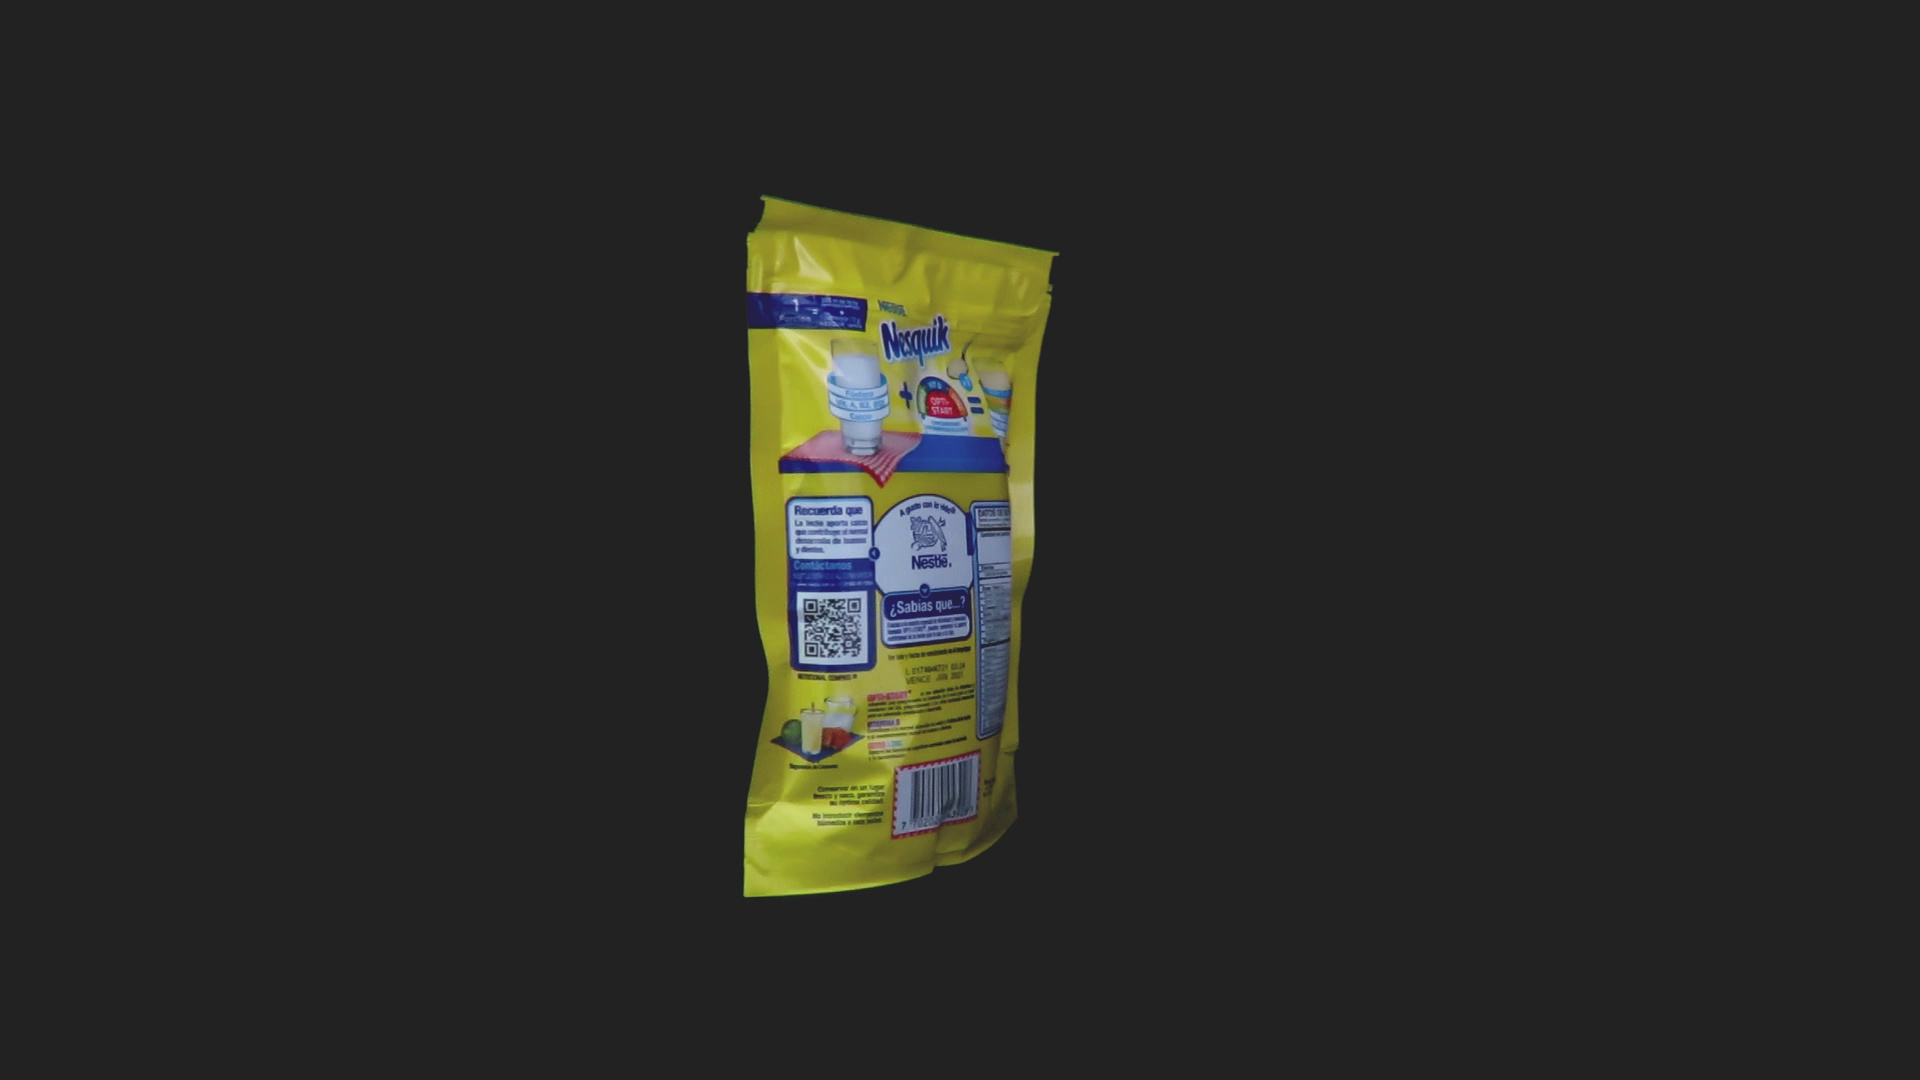COL0170306DYP20000: (738, 190, 1065, 905)
